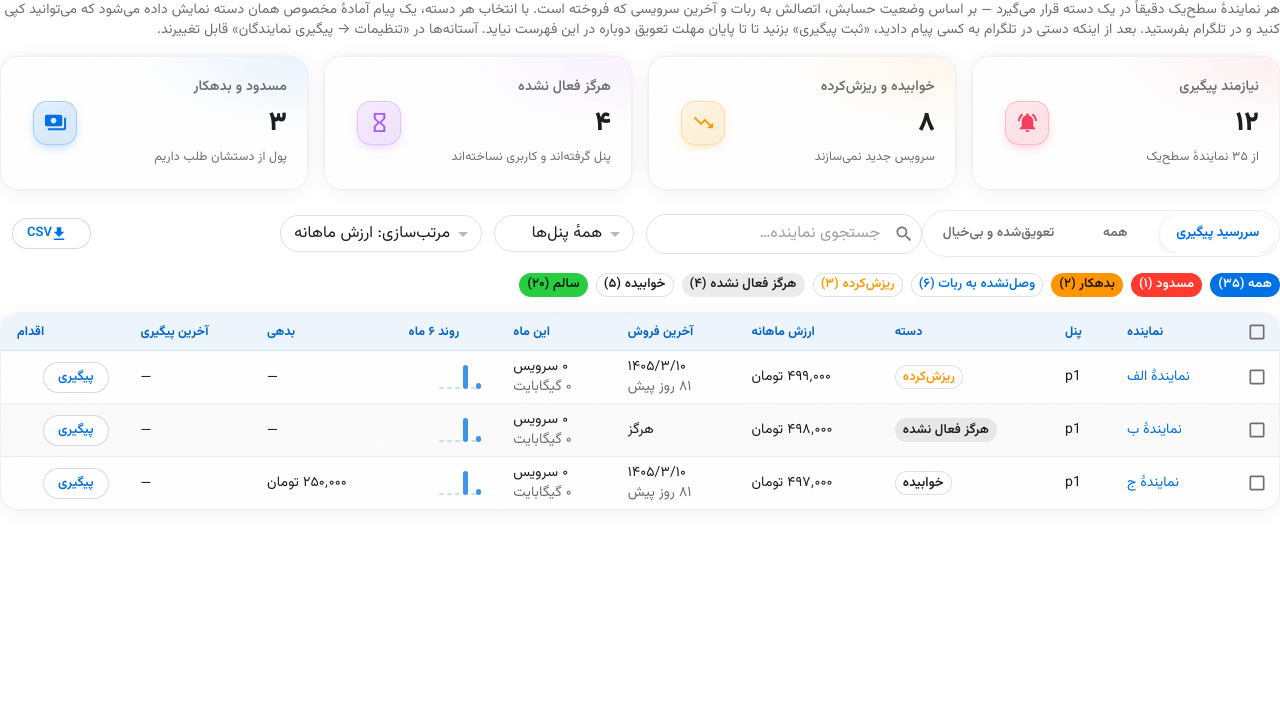
Scenario: reseller follow-up board › supports a bulk follow-up after a batch of manual DMs
Click the checkbox named "انتخاب نمایندهٔ الف": (1257, 377) [1247, 367, 1267, 387]
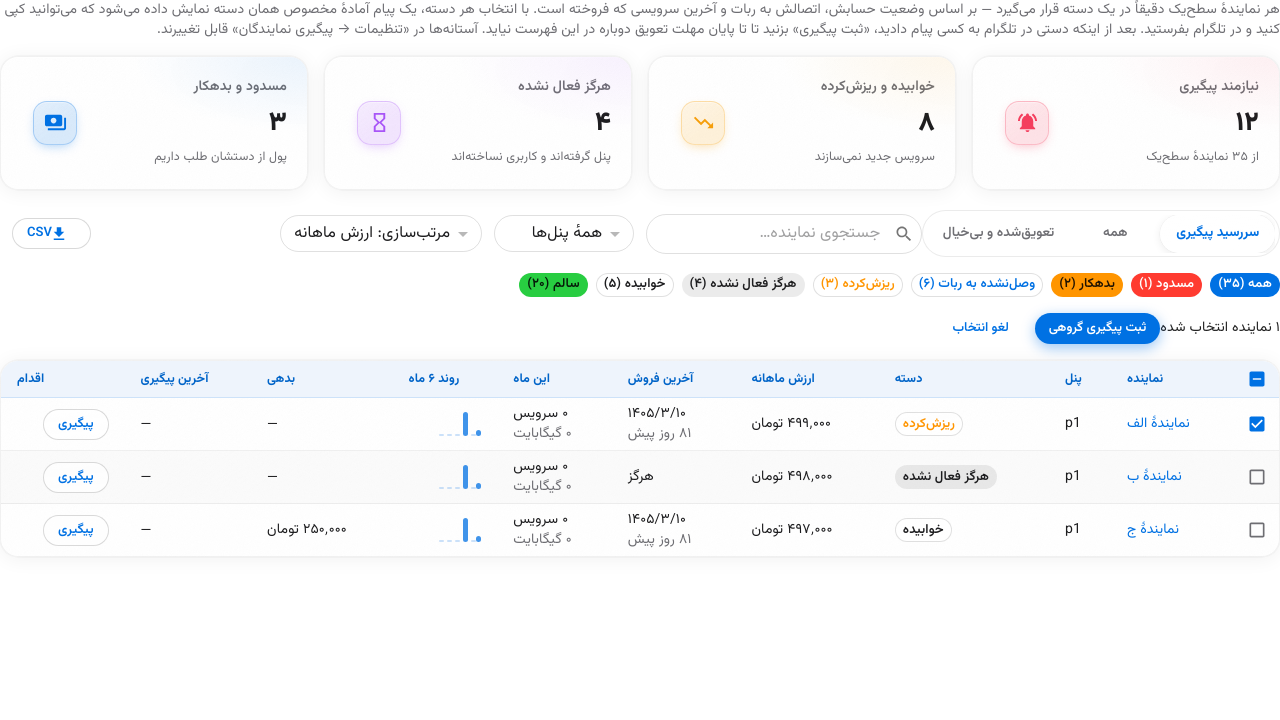
Click the checkbox named "انتخاب نمایندهٔ ب": (1257, 476) [1247, 466, 1267, 486]
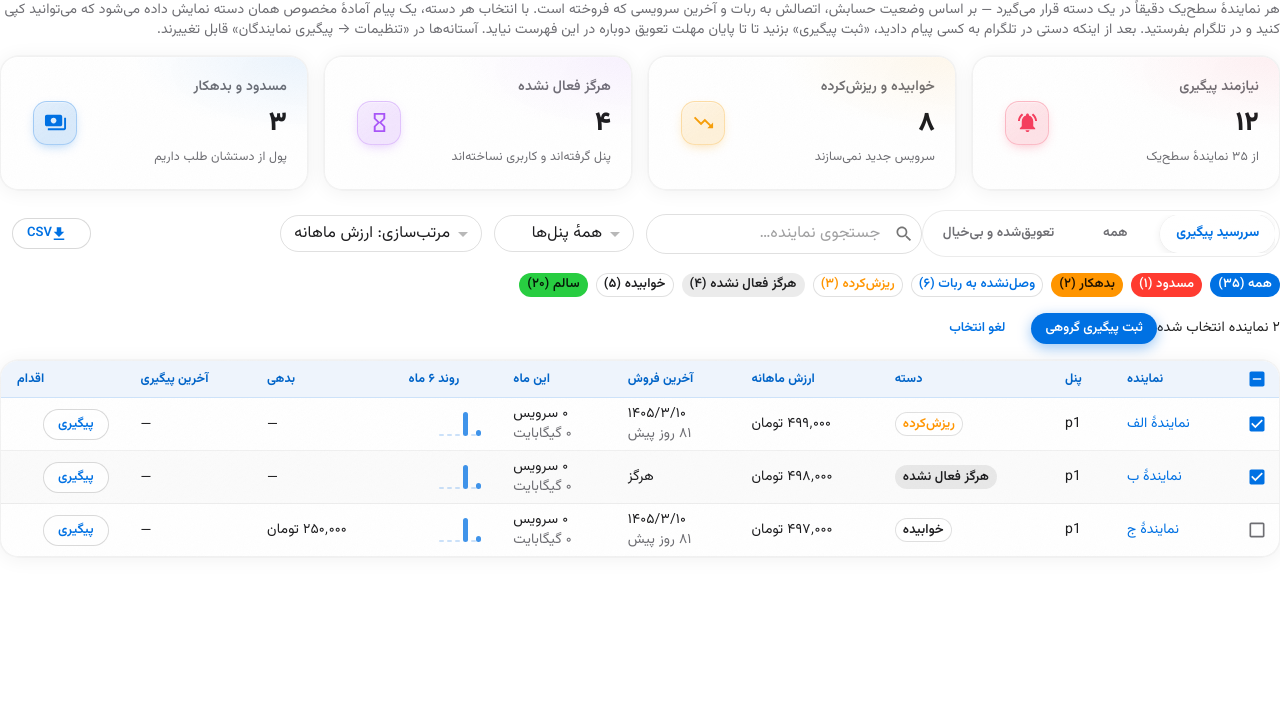
Result: the text "۲ نماینده انتخاب شده" is shown at [1157, 318, 1279, 338]
Click the button "ثبت پیگیری گروهی": (1094, 328) [1032, 313, 1157, 344]
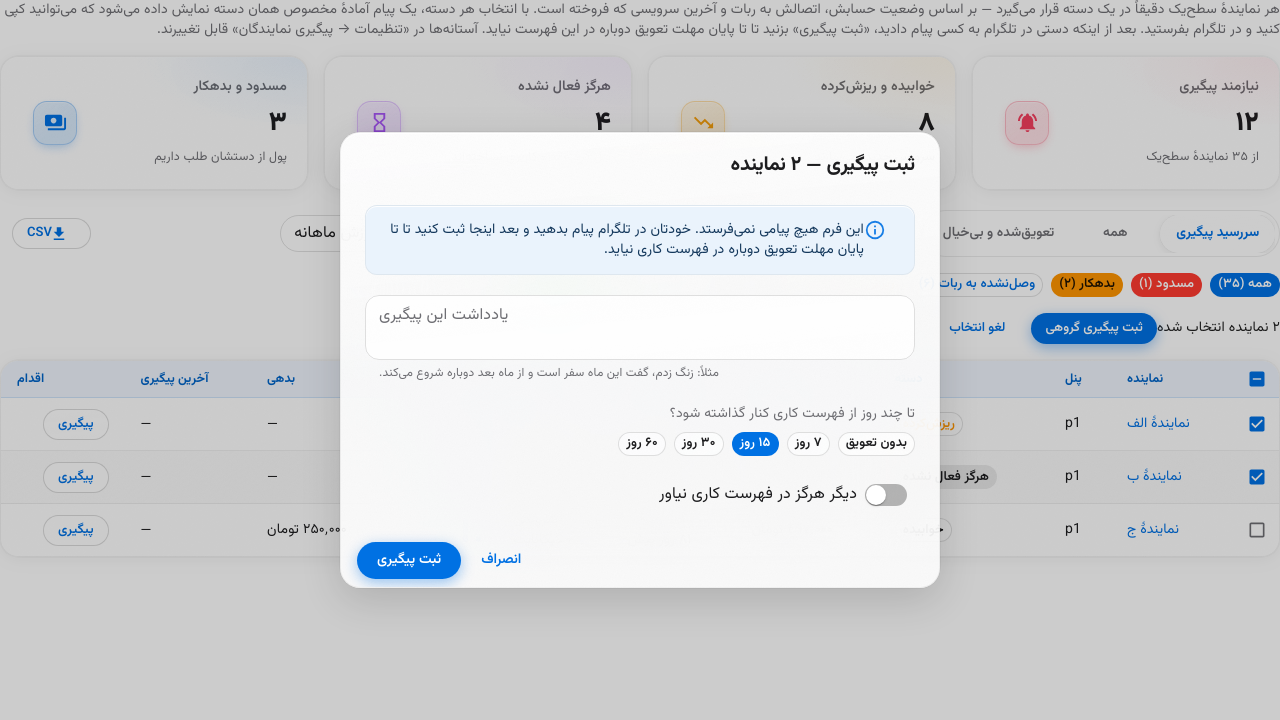
Click the button "ثبت پیگیری": (409, 560) [357, 542, 461, 579]
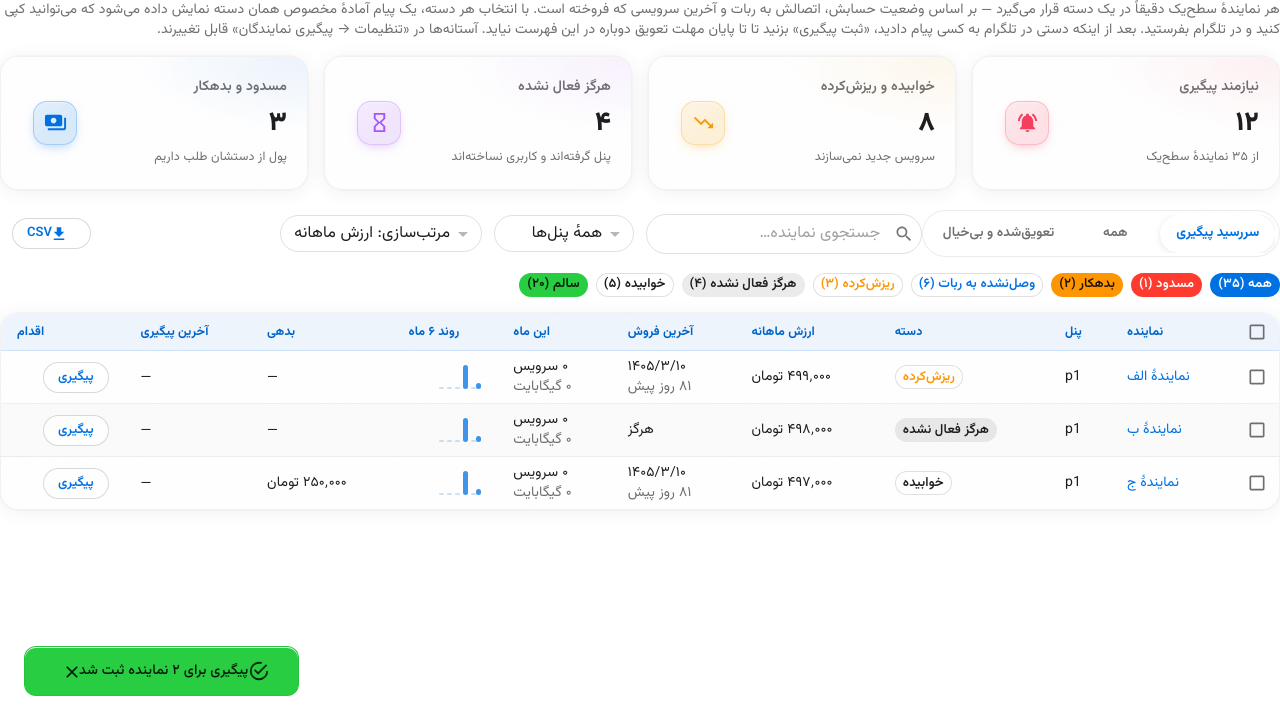
Result: the text "پیگیری برای ۲ نماینده ثبت شد" is shown at [79, 653, 248, 689]
